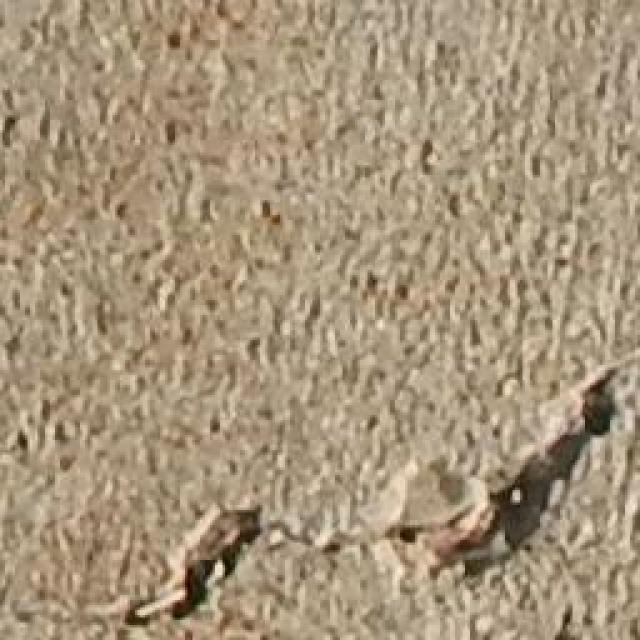concrete-crack: (111, 354, 626, 633)
